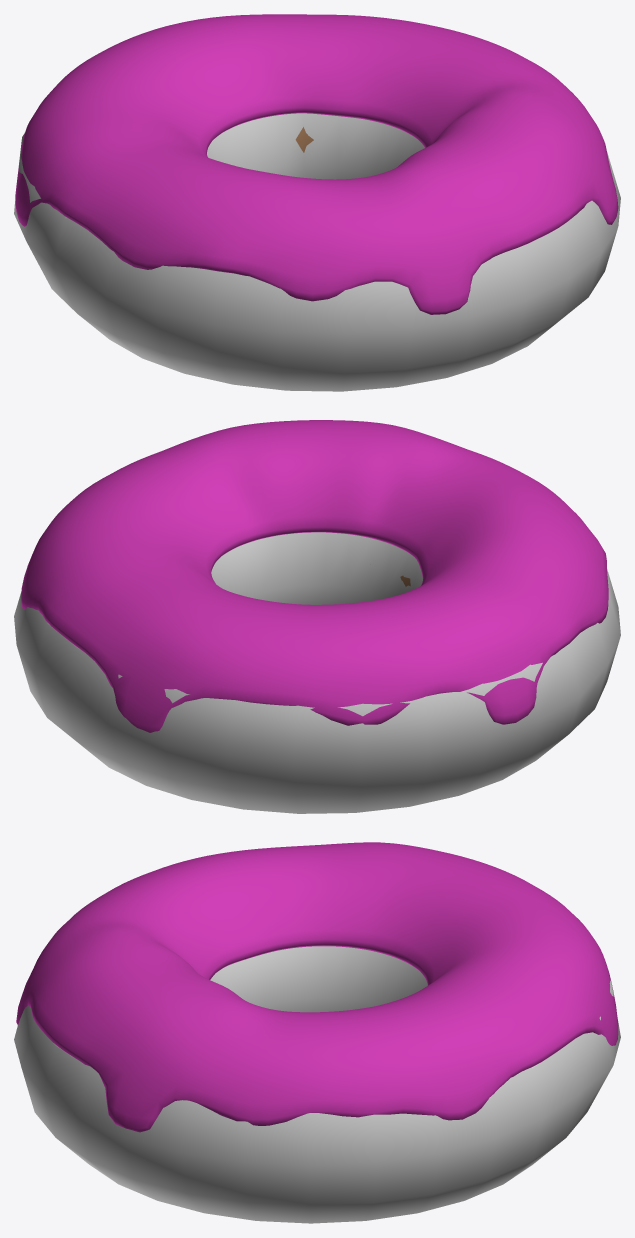
File: donut-attempt-two.obj
3 renders of one model, top to bottom at view 1: azimuth 30°, elevation 25°; view 2: azimuth 150°, elevation 25°; view 3: azimuth 270°, elevation 25°, orthographic. The views are drawn at different scales.
Visible parts, largest first — view 1: icing_Torus.002, donut.001_Torus.001; view 2: icing_Torus.002, donut.001_Torus.001; view 3: icing_Torus.002, donut.001_Torus.001.
Part boxes in pixels (left/top/right/bottom): icing_Torus.002: left=15, top=14, right=618, bottom=314; donut.001_Torus.001: left=14, top=113, right=620, bottom=391; icing_Torus.002: left=21, top=420, right=608, bottom=732; donut.001_Torus.001: left=14, top=532, right=620, bottom=813; icing_Torus.002: left=16, top=842, right=618, bottom=1132; donut.001_Torus.001: left=14, top=946, right=620, bottom=1223.
Size of the model in its own units: 0.0307 by 0.0115 by 0.0311.
